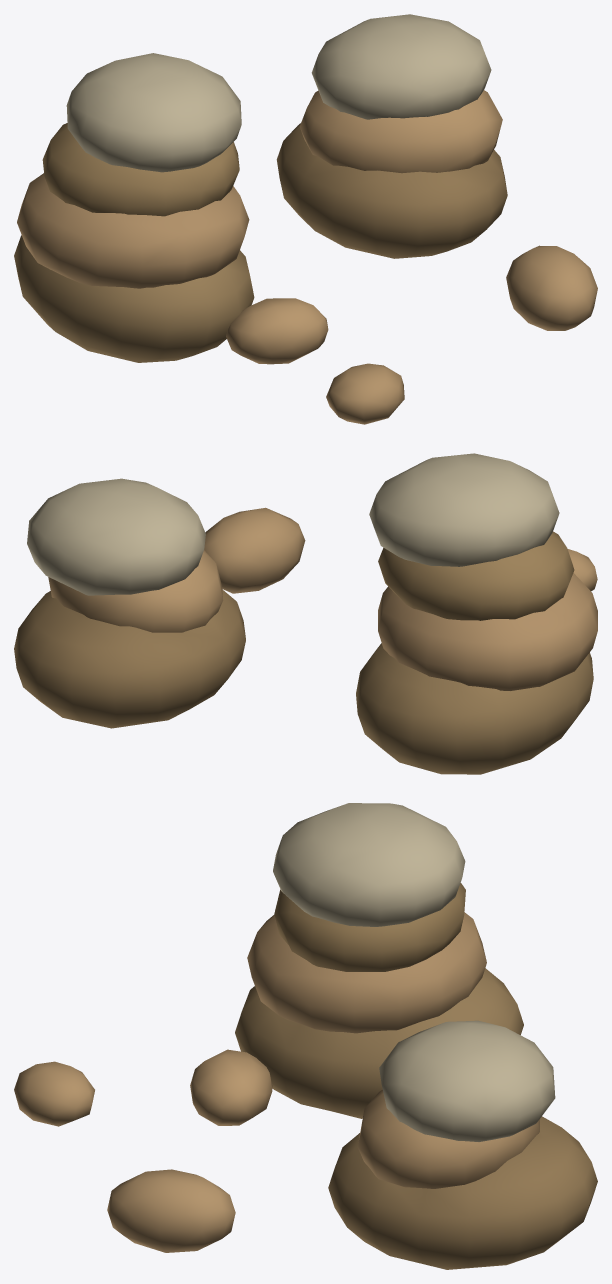
Rendered from weaver_cairn_b_lod1.glb.
3 views of the same model, one above another, from view 1: azimuth 30°, elevation 25°; view 2: azimuth 150°, elevation 25°; view 3: azimuth 270°, elevation 25° (orthographic). The views are drawn at different scales.
Visible parts, largest first — view 1: Surface.001; view 2: Surface.001; view 3: Surface.001.
Boxes of the visible parts, box(x1,y1,x2,y2) form: Surface.001: box(14, 14, 597, 424); Surface.001: box(14, 453, 597, 774); Surface.001: box(14, 803, 597, 1269).
Bounding box in the file's own units: 1.32 × 0.6958 × 1.27.
